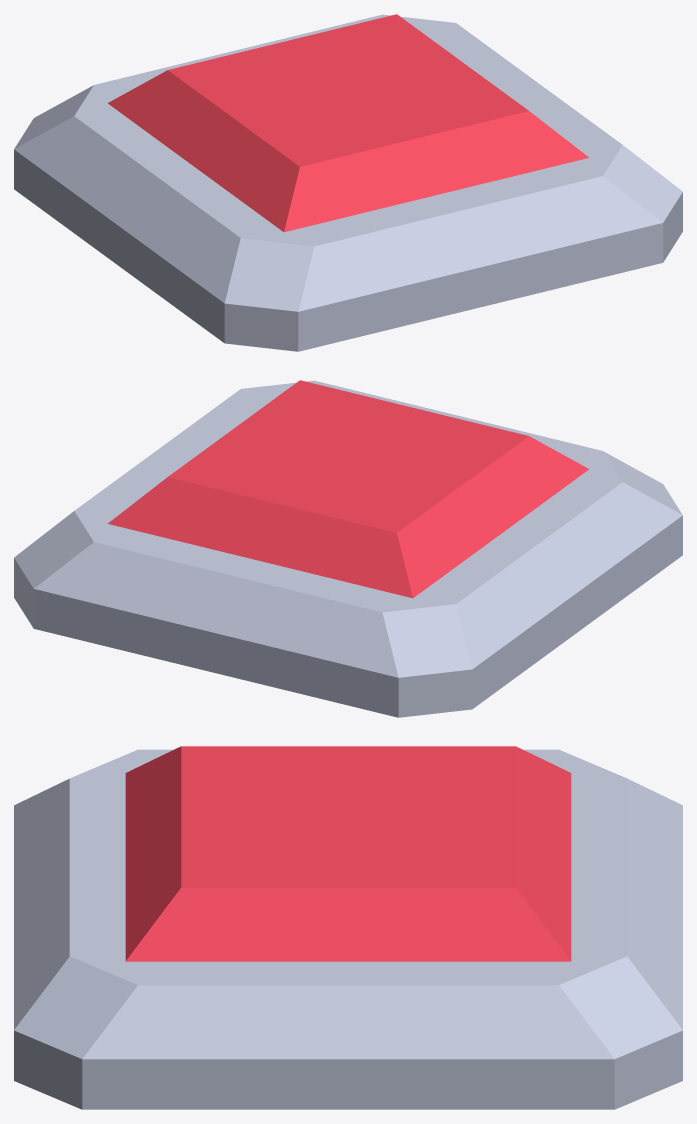
File: buttonSquare.obj
3 renders of one model, top to bottom at view 1: azimuth 30°, elevation 25°; view 2: azimuth 150°, elevation 25°; view 3: azimuth 270°, elevation 25°, orthographic. The views are drawn at different scales.
Parts seen in each view (by area): view 1: buttonSquare, knob; view 2: buttonSquare, knob; view 3: buttonSquare, knob.
Part boxes in pixels (x1=…): buttonSquare: x1=14, y1=14, x2=682, y2=351; knob: x1=108, y1=14, x2=588, y2=232; buttonSquare: x1=14, y1=380, x2=682, y2=717; knob: x1=108, y1=380, x2=588, y2=598; buttonSquare: x1=14, y1=749, x2=682, y2=1109; knob: x1=125, y1=746, x2=571, y2=961.
Bounding box in the file's own units: 0.6 × 0.15 × 0.6.
